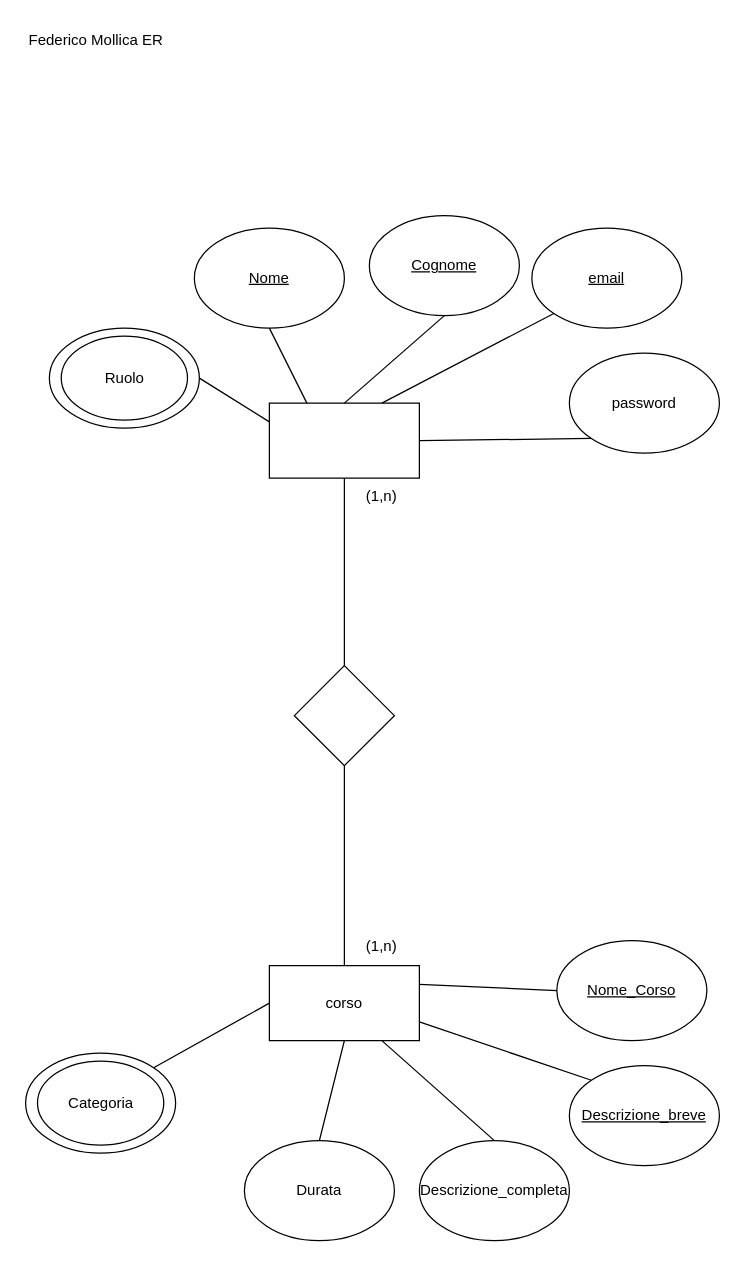
The diagram is 741 pixels wide and 1263 high, and some of its shapes have lost their labels. The centre of each missing label's shape, as x and y in pixels:
iscrivere: point 343,715
utente: point 343,440
